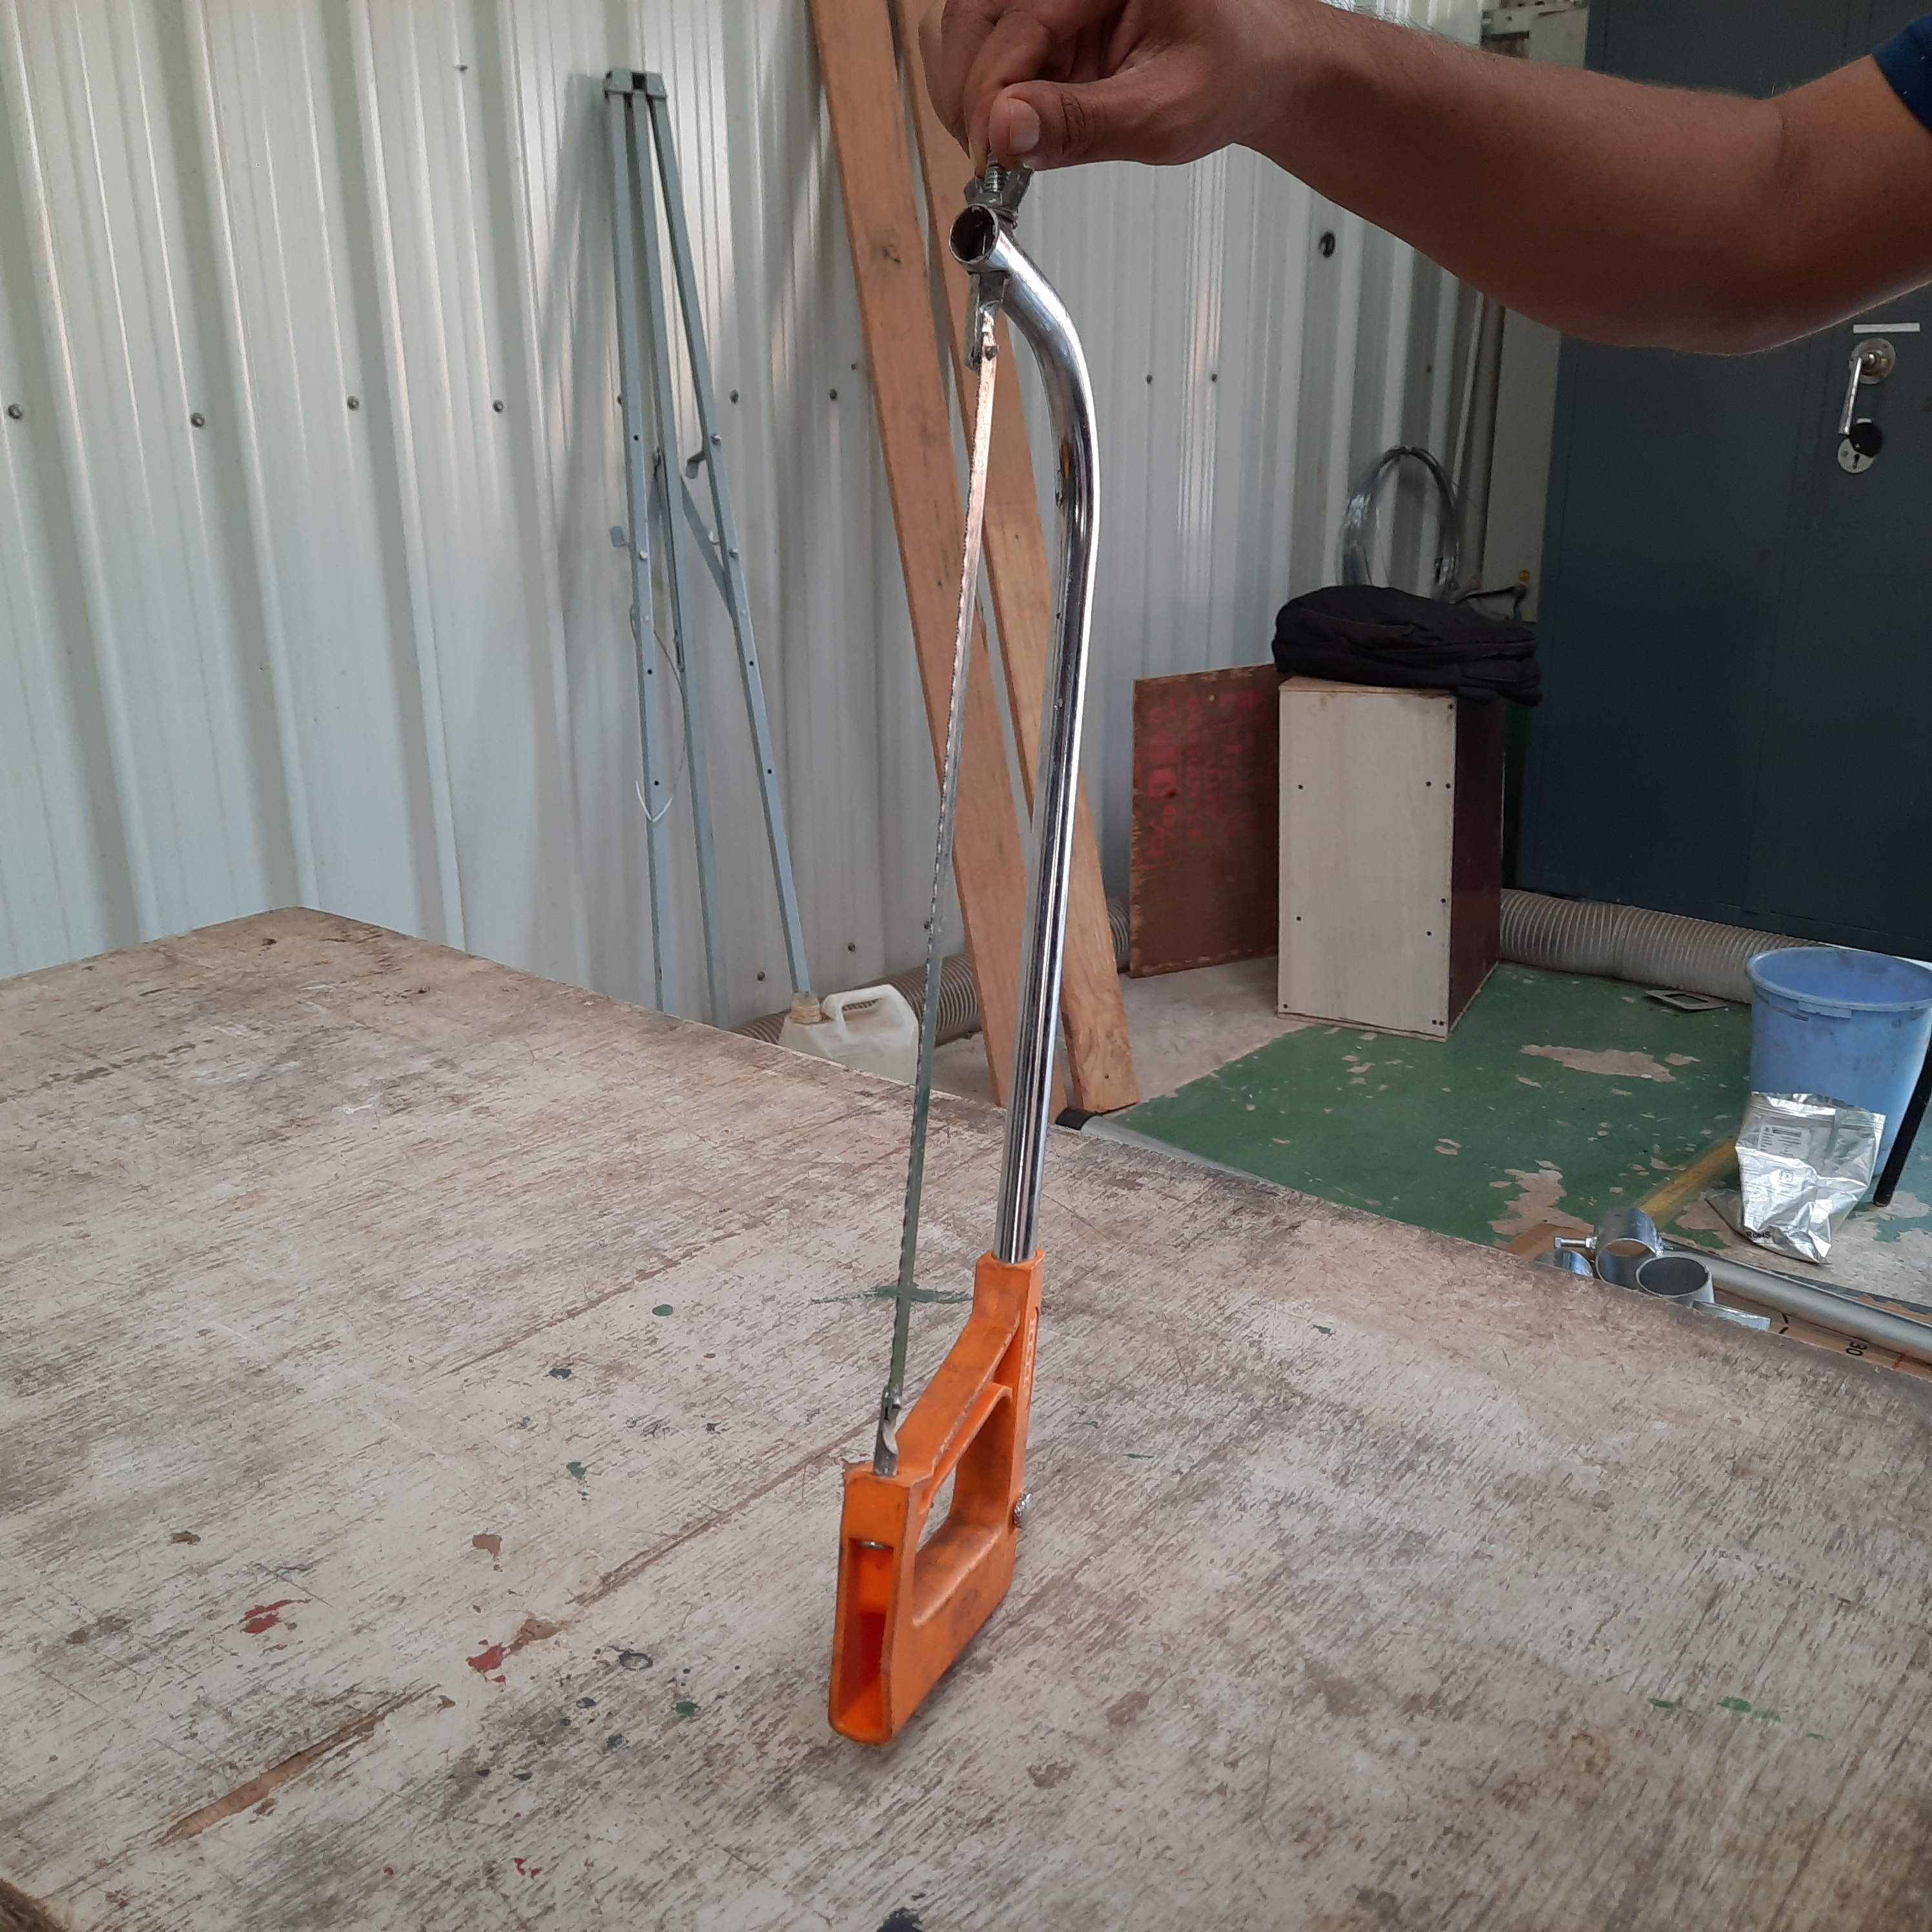Hexaframe: (819, 159, 1088, 1720)
